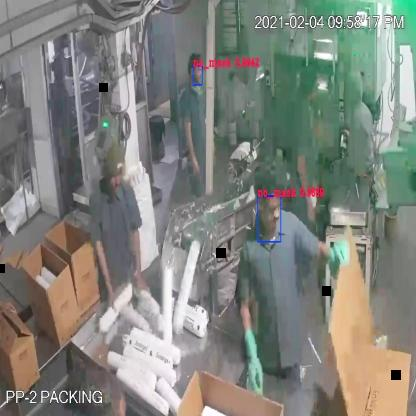glove: (233, 293, 269, 406), (317, 223, 349, 276)
no_glove: (88, 222, 121, 320), (294, 142, 320, 231), (128, 214, 150, 304), (178, 112, 202, 186), (0, 295, 21, 342)
